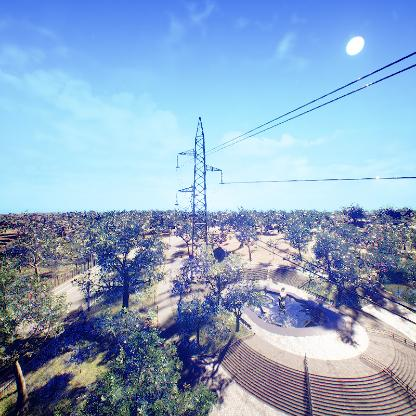tower: (169, 113, 226, 272)
